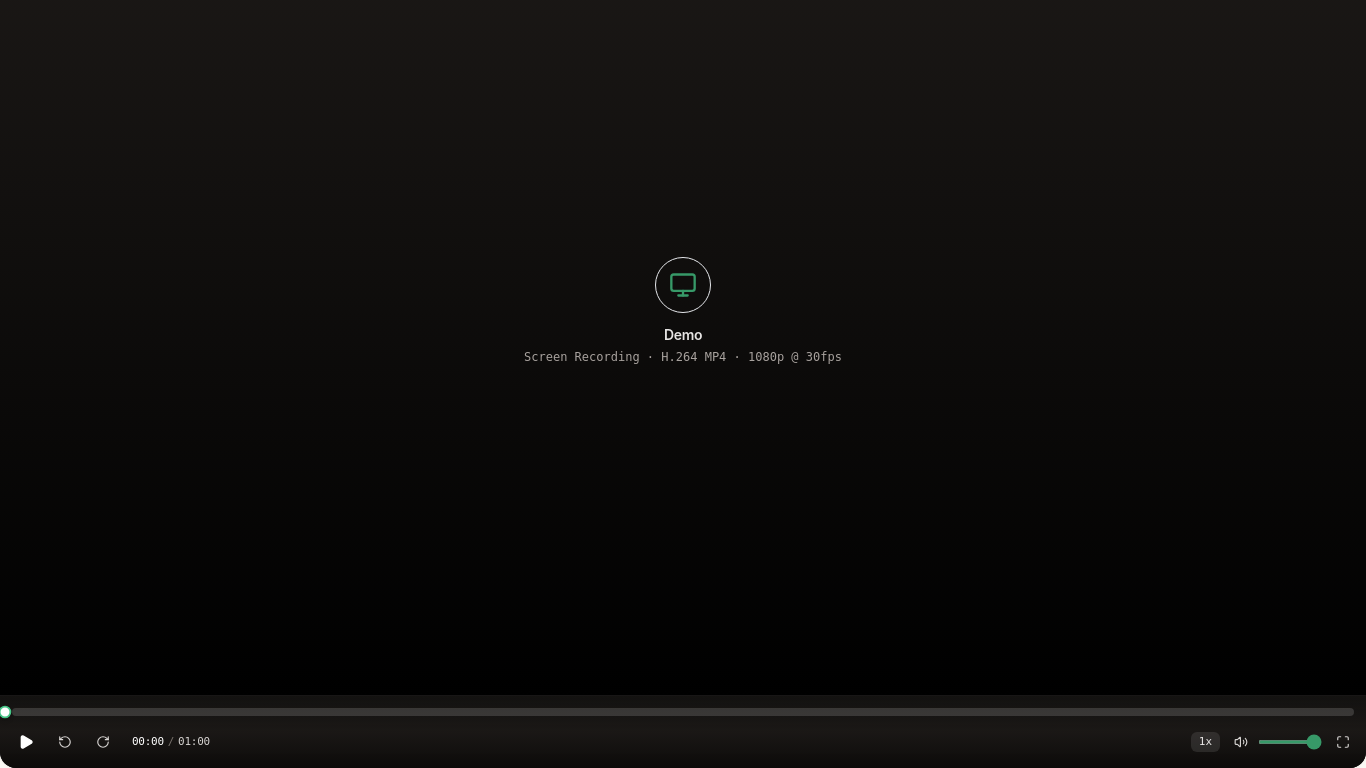
Test: Video fullscreen in the desktop app (window-level; the webview has no element Fullscreen API) › makes the app window fullscreen and the player fills it
(page scrolled)
Click the button named "enter fullscreen" at (1343, 742), box [1332,731,1354,753]
(page scrolled)
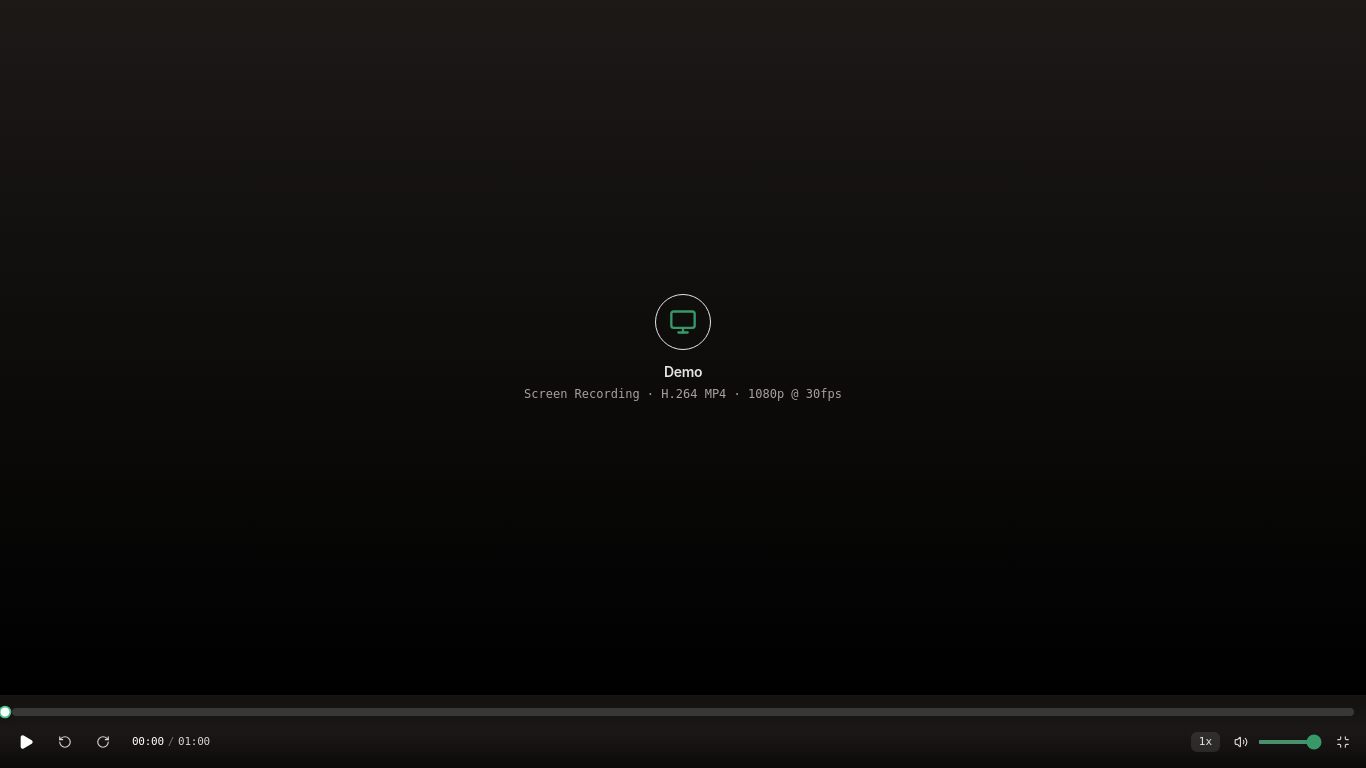
Expected: the button named "exit fullscreen" is shown, [1332,731,1354,753]
